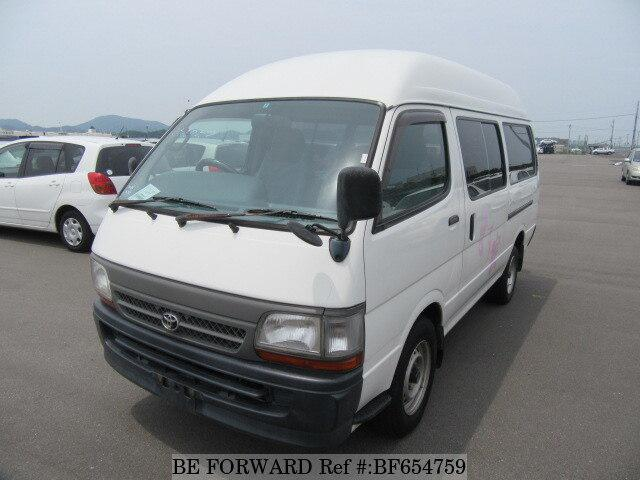van: (87, 48, 539, 445)
